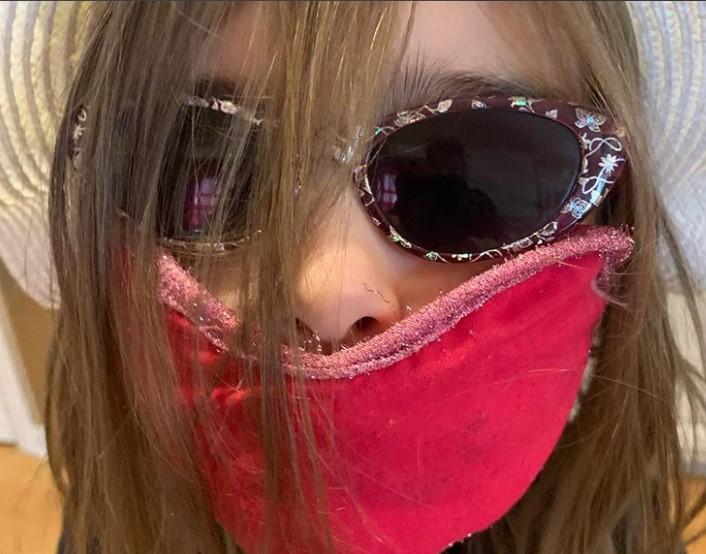face_with_mask: (53, 6, 642, 552)
